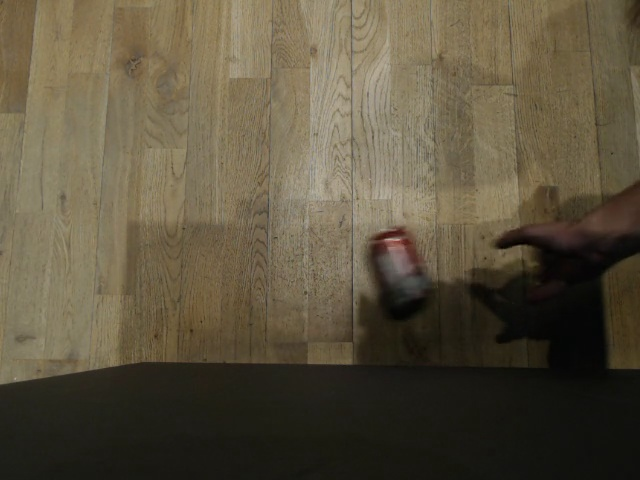cola: (366, 228, 426, 312)
